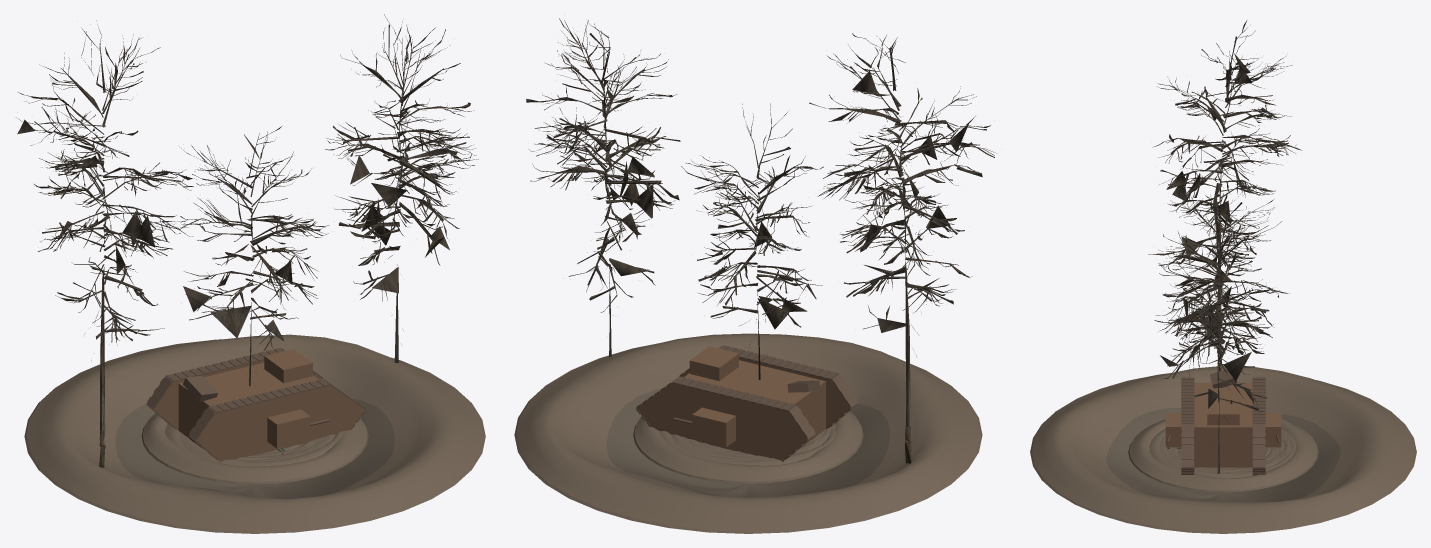
The model's file is props.glb.
3 views of the same model, side by side, from view 1: azimuth 30°, elevation 25°; view 2: azimuth 150°, elevation 25°; view 3: azimuth 270°, elevation 25° (orthographic). The views are drawn at different scales.
Parts seen in each view (by area): view 1: UF|ward|crater_65, pine_tree_01|all, UF|ward|tank, UF|ward|crater_32, UF|ward|crater_28; view 2: UF|ward|crater_65, pine_tree_01|all, UF|ward|tank, UF|ward|crater_32, UF|ward|crater_28; view 3: UF|ward|crater_65, pine_tree_01|all, UF|ward|tank, UF|ward|crater_32, UF|ward|crater_28, UF|ward|crater_26.
Part boxes in pixels (x1,y1,x2,y2): UF|ward|crater_65: (24, 334, 485, 533); pine_tree_01|all: (16, 14, 478, 467); UF|ward|tank: (146, 348, 365, 461); UF|ward|crater_32: (141, 413, 368, 484); UF|ward|crater_28: (164, 424, 342, 466); UF|ward|crater_65: (514, 333, 982, 533); pine_tree_01|all: (526, 18, 996, 463); UF|ward|tank: (636, 345, 858, 461); UF|ward|crater_32: (633, 411, 863, 483); UF|ward|crater_28: (660, 424, 835, 465); UF|ward|crater_65: (1030, 365, 1416, 533); pine_tree_01|all: (1148, 20, 1301, 474); UF|ward|tank: (1165, 369, 1281, 475); UF|ward|crater_32: (1128, 419, 1318, 492); UF|ward|crater_28: (1149, 428, 1295, 478); UF|ward|crater_26: (1159, 433, 1291, 475).
Size of the model in its own units: 21.08 by 22.41 by 19.04.
Materials: 49 (33 with a texture image).
